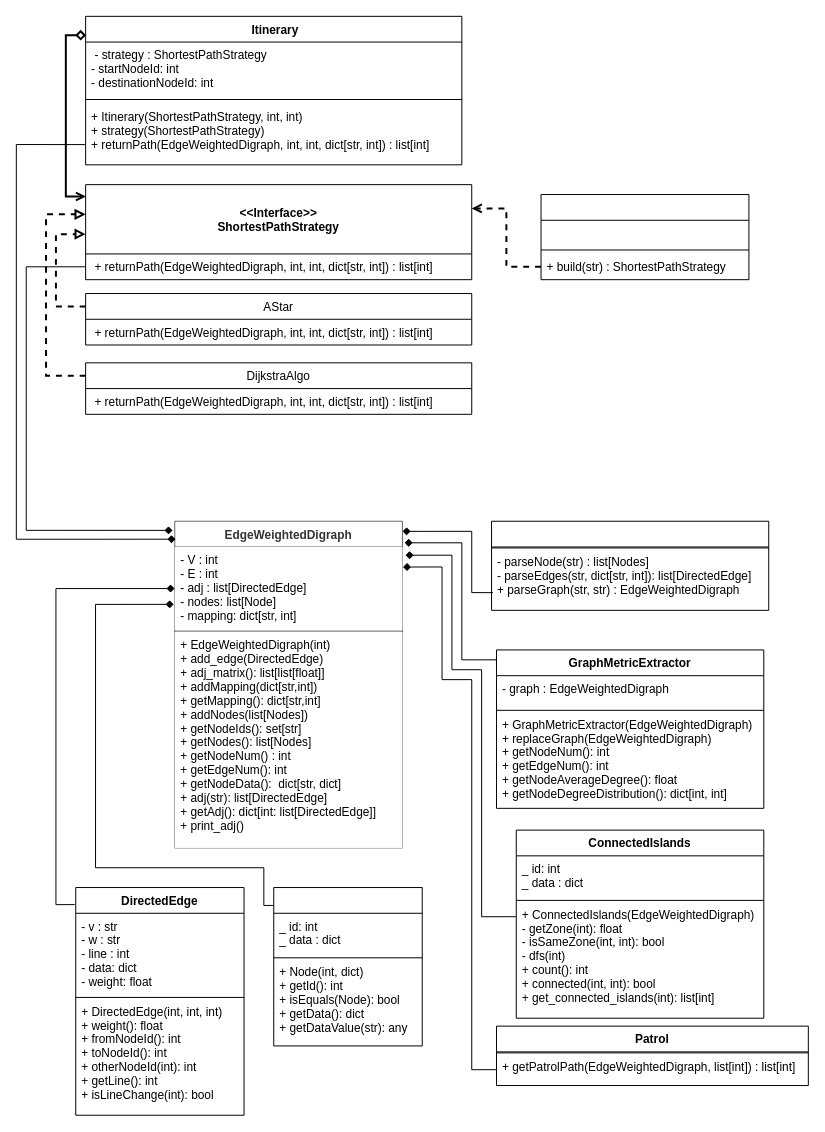
The diagram is 825 pixels wide and 1132 high, and some of its shapes have lost their labels. The shapes that lost their labels are listed below. From the top down, each one's box as (x1, y1, x2, y2) in pixels, then its label:
(540, 194, 749, 280): ShortestPathFactory
(491, 520, 769, 610): GraphParser
(273, 887, 422, 1046): Nodes
